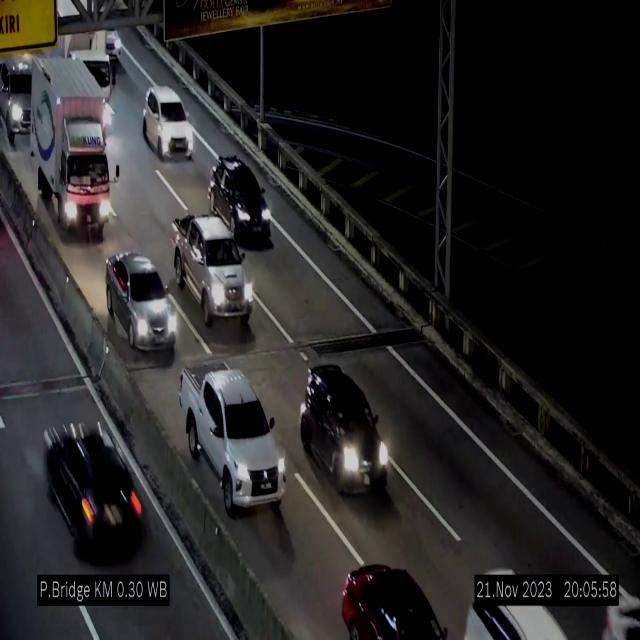Car: (175, 353, 289, 516), (297, 362, 391, 500), (168, 211, 257, 328), (104, 250, 176, 356), (207, 152, 273, 246), (143, 86, 194, 160)
Truck: (27, 51, 121, 236)
